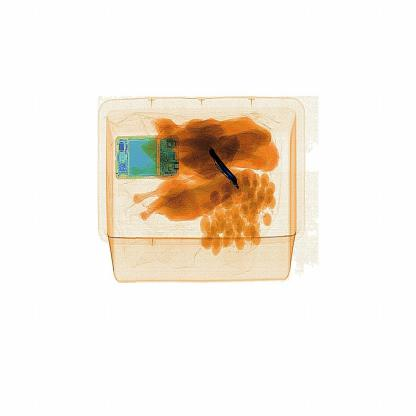knife: (205, 141, 249, 190)
